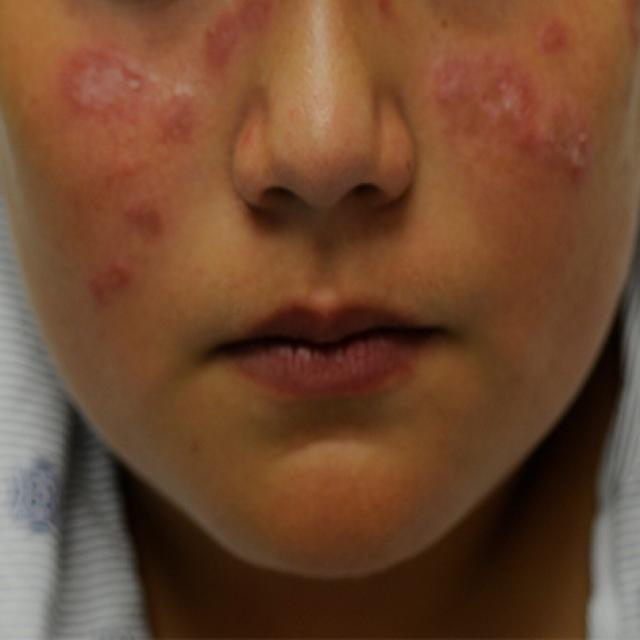lupus: (29, 4, 604, 307)
